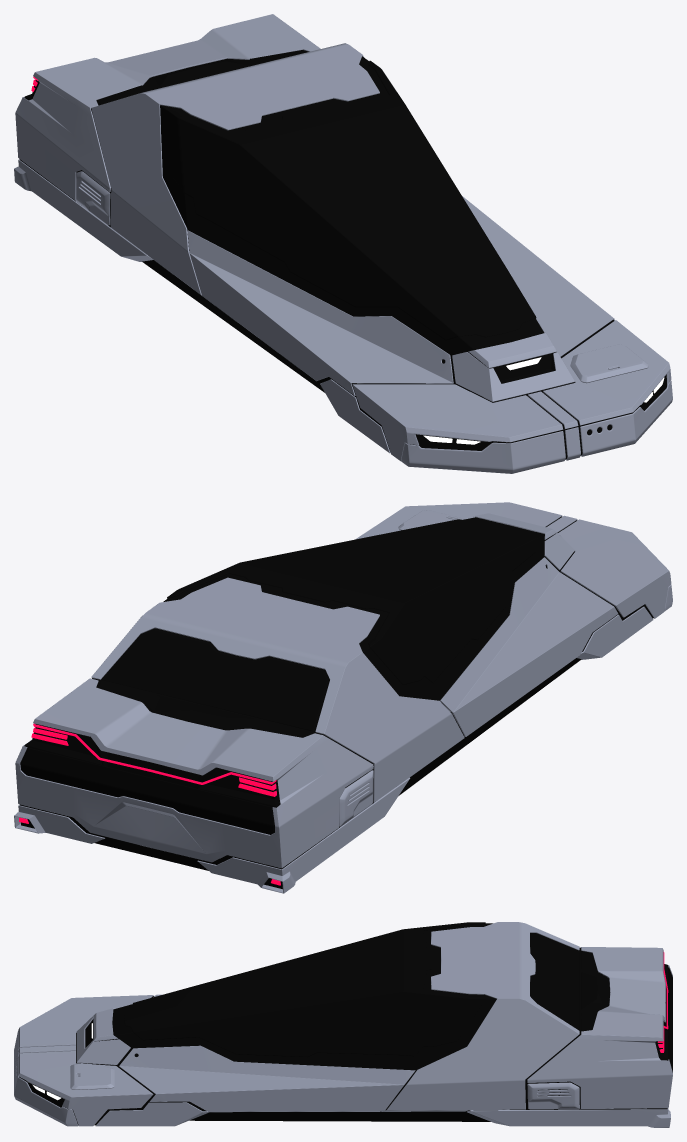
Rendered from scifi-vehicle.glb.
The picture shows the model from 3 angles, top to bottom: view 1: azimuth 30°, elevation 25°; view 2: azimuth 150°, elevation 25°; view 3: azimuth 270°, elevation 25°; orthographic projection. The views are drawn at different scales.
Visible parts, largest first — view 1: sci-fi_car_26, sci-fi_car_26.002, sci-fi_car_26.001, sci-fi_car_26.011, sci-fi_car_26.009, sci-fi_car_26.004, sci-fi_car_26.008; view 2: sci-fi_car_26, sci-fi_car_26.002, sci-fi_car_26.001, sci-fi_car_26.003, sci-fi_car_26.005, sci-fi_car_26.004, sci-fi_car_26.006, sci-fi_car_26.008, sci-fi_car_26.009; view 3: sci-fi_car_26, sci-fi_car_26.002, sci-fi_car_26.001, sci-fi_car_26.003, sci-fi_car_26.004, sci-fi_car_26.008, sci-fi_car_26.011, sci-fi_car_26.009, sci-fi_car_26.005.
Part boxes in pixels (x1,y1,x2,y2): sci-fi_car_26: (14, 14, 671, 461); sci-fi_car_26.002: (167, 60, 536, 340); sci-fi_car_26.001: (19, 50, 666, 459); sci-fi_car_26.011: (401, 380, 672, 473); sci-fi_car_26.009: (570, 344, 648, 383); sci-fi_car_26.004: (98, 50, 307, 104); sci-fi_car_26.008: (75, 171, 110, 225); sci-fi_car_26: (14, 502, 671, 893); sci-fi_car_26.002: (167, 519, 536, 684); sci-fi_car_26.001: (19, 516, 653, 889); sci-fi_car_26.003: (103, 630, 327, 731); sci-fi_car_26.005: (21, 748, 274, 833); sci-fi_car_26.004: (98, 681, 312, 737); sci-fi_car_26.006: (19, 723, 280, 885); sci-fi_car_26.008: (339, 770, 373, 826); sci-fi_car_26.009: (398, 510, 465, 530); sci-fi_car_26: (14, 922, 672, 1127); sci-fi_car_26.002: (124, 922, 485, 1057); sci-fi_car_26.001: (19, 923, 668, 1125); sci-fi_car_26.003: (531, 933, 579, 1030); sci-fi_car_26.004: (581, 951, 608, 1030); sci-fi_car_26.008: (527, 1082, 579, 1109); sci-fi_car_26.011: (14, 1031, 78, 1126); sci-fi_car_26.009: (70, 1063, 114, 1089); sci-fi_car_26.005: (668, 968, 672, 1072).
Bounding box in the file's own units: 2.04 × 1.12 × 5.61.
